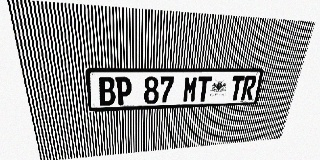7: (159, 76, 174, 103)
8: (144, 76, 159, 104)
B: (98, 77, 116, 106)
M: (182, 76, 198, 103)
P: (115, 77, 132, 105)
R: (241, 76, 257, 100)
T: (196, 76, 212, 102), (229, 76, 245, 101)
